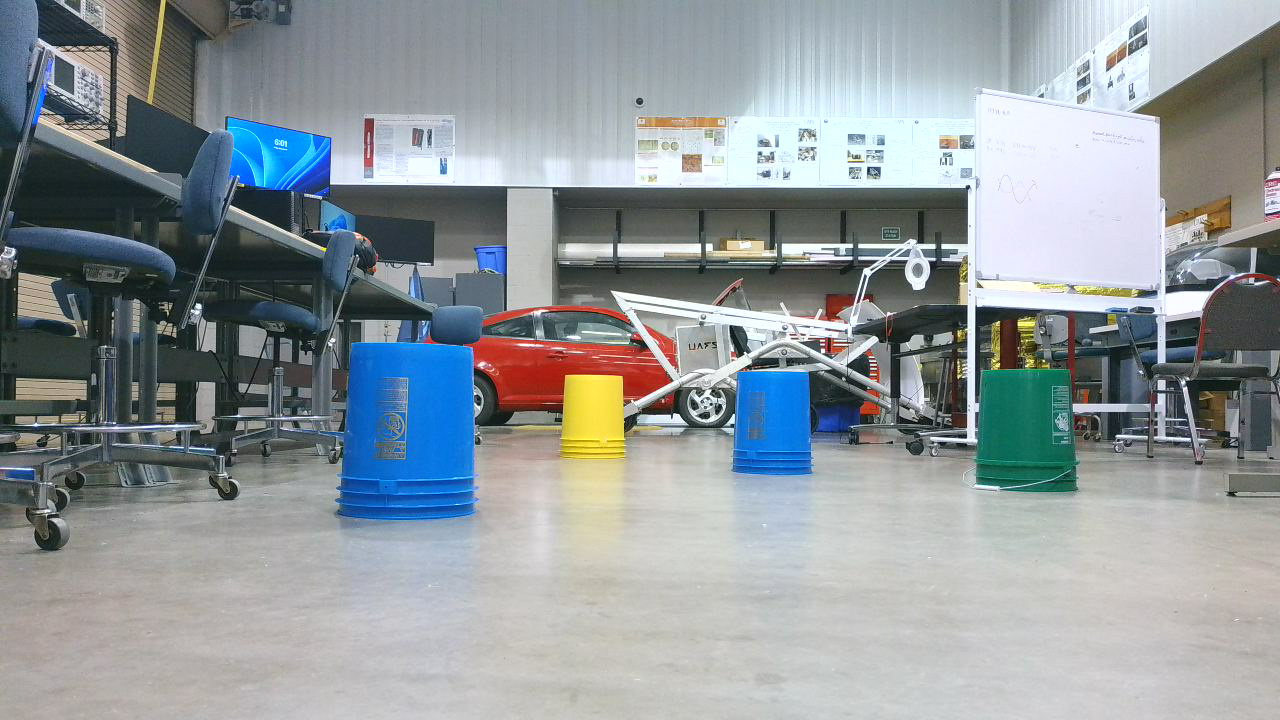blue_bucket: (336, 342, 488, 526), (730, 369, 826, 482)
green_bucket_barrier: (976, 366, 1090, 501)
yellow_bucket: (560, 375, 635, 469)
